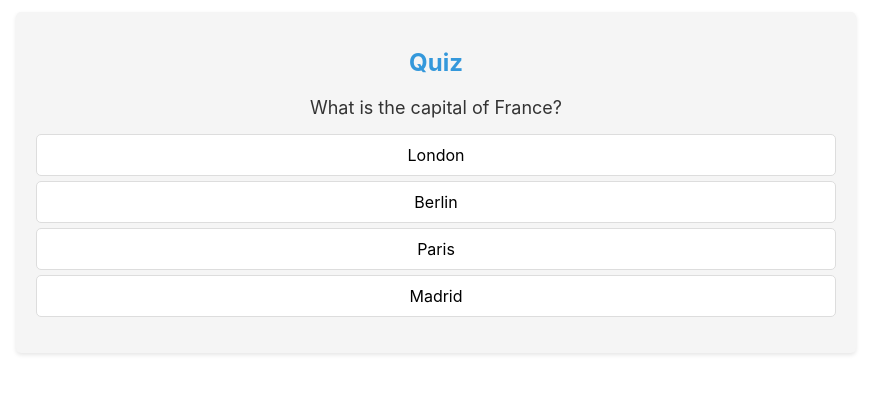
Test: App › For first Question › when_user_chooses_the_option_incorrectly
// Answer the questions
Click the list item "London": (436, 155) [36, 134, 836, 176]
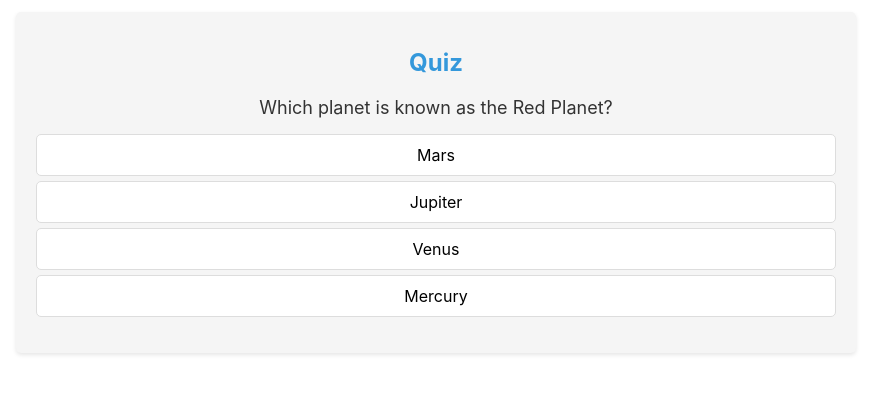
Click the list item "Mars": (436, 155) [36, 134, 836, 176]
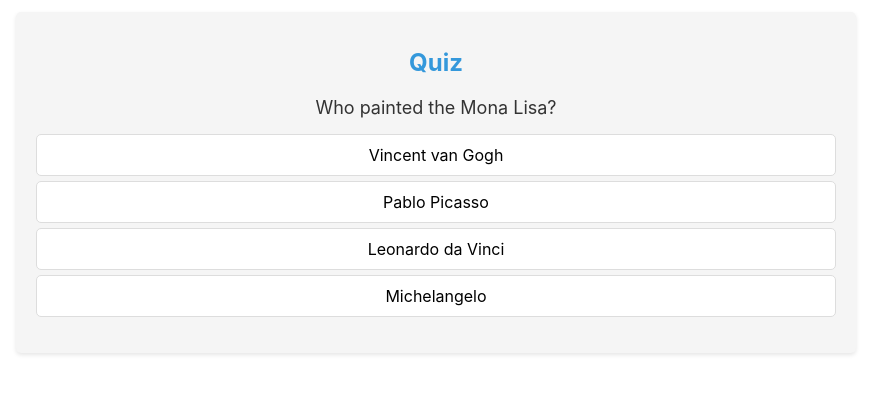
Click the list item "Leonardo da Vinci": (436, 249) [36, 228, 836, 270]
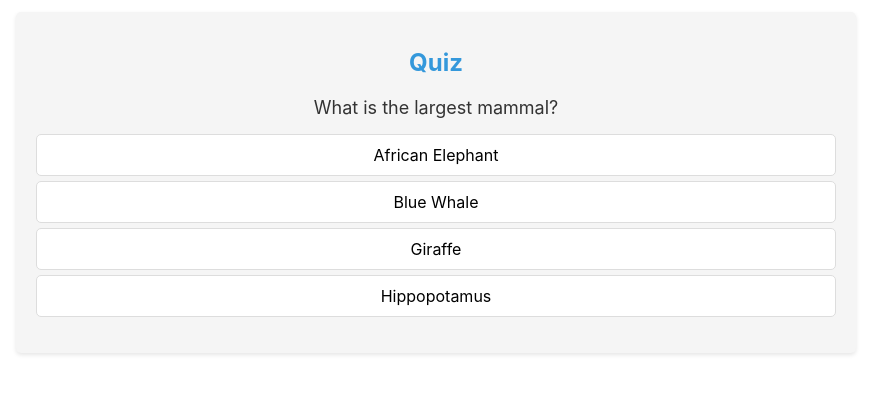
Click the list item "Blue Whale": (436, 202) [36, 181, 836, 223]
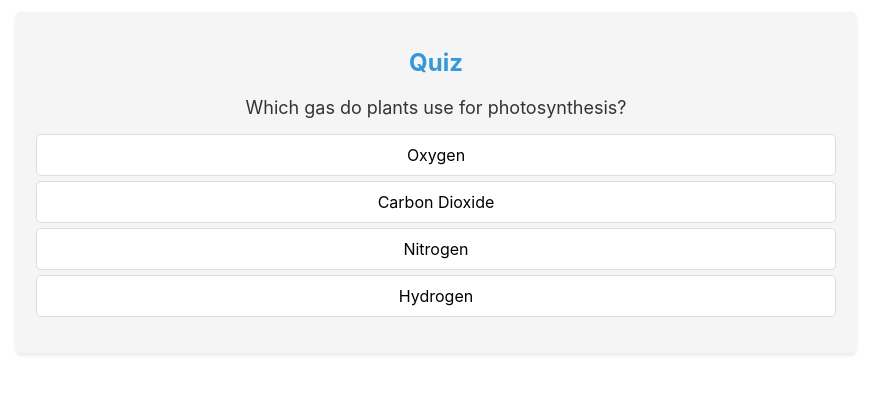
Click the list item "Carbon Dioxide": (436, 202) [36, 181, 836, 223]
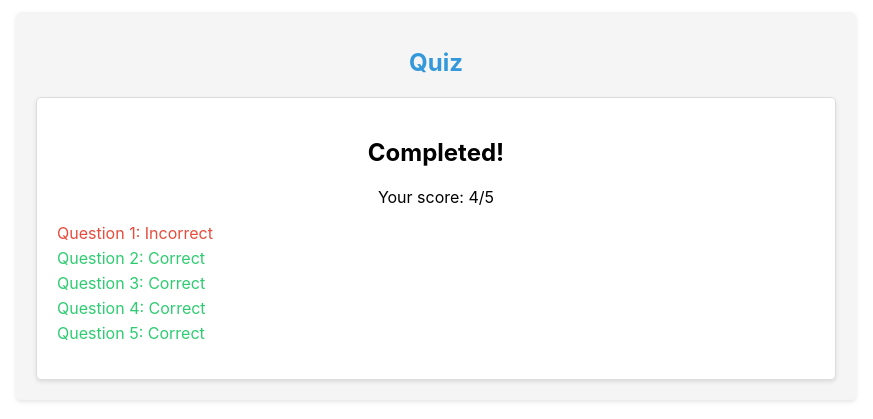
Now the heading "Completed!" is shown, box [368, 138, 504, 167]
Now the text "Your score: 4/5" is shown, box [378, 187, 494, 207]
Now the list item "Question 1: Incorrect" is shown, box [57, 223, 213, 243]
